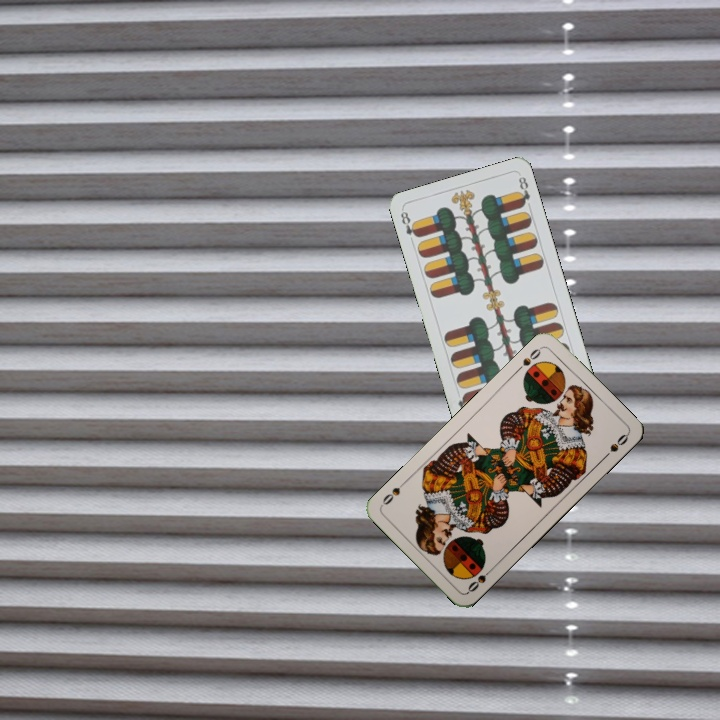E8: (397, 207, 421, 240)
SO: (463, 563, 497, 595), (512, 343, 544, 375)
